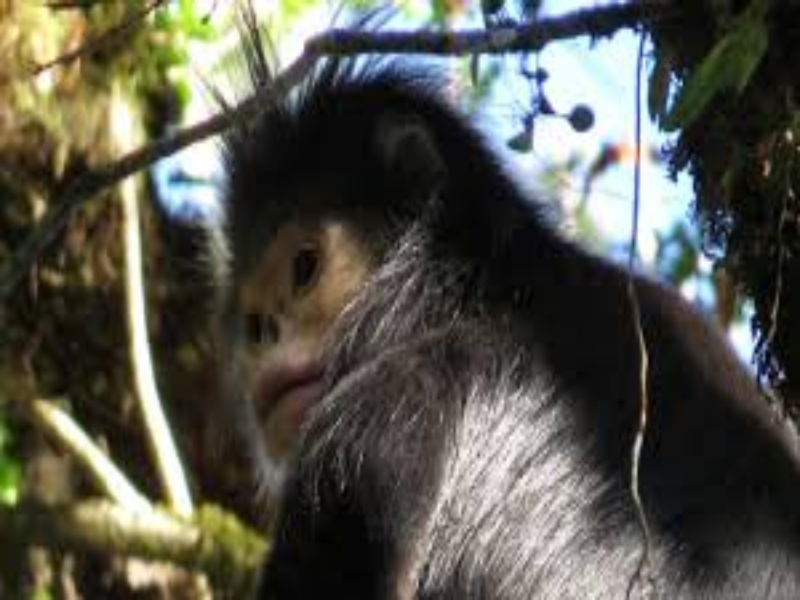monkey: (156, 63, 800, 600)
